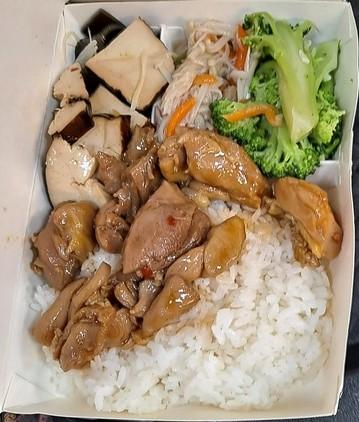big grilled chicken leg: (8, 1, 359, 422)
big herbal chicken leg: (29, 204, 328, 410)
braised fish fillet: (41, 7, 174, 210), (212, 14, 342, 175), (157, 18, 245, 136)
braised pork: (28, 125, 339, 369)
